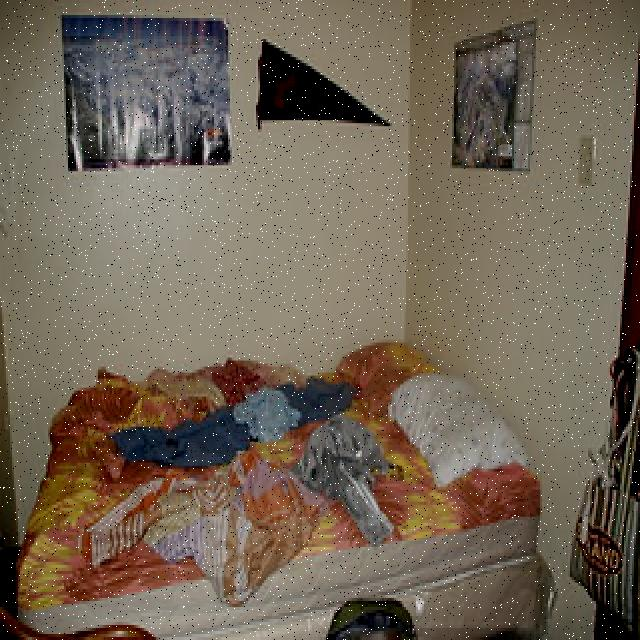bed: (0, 350, 539, 640)
